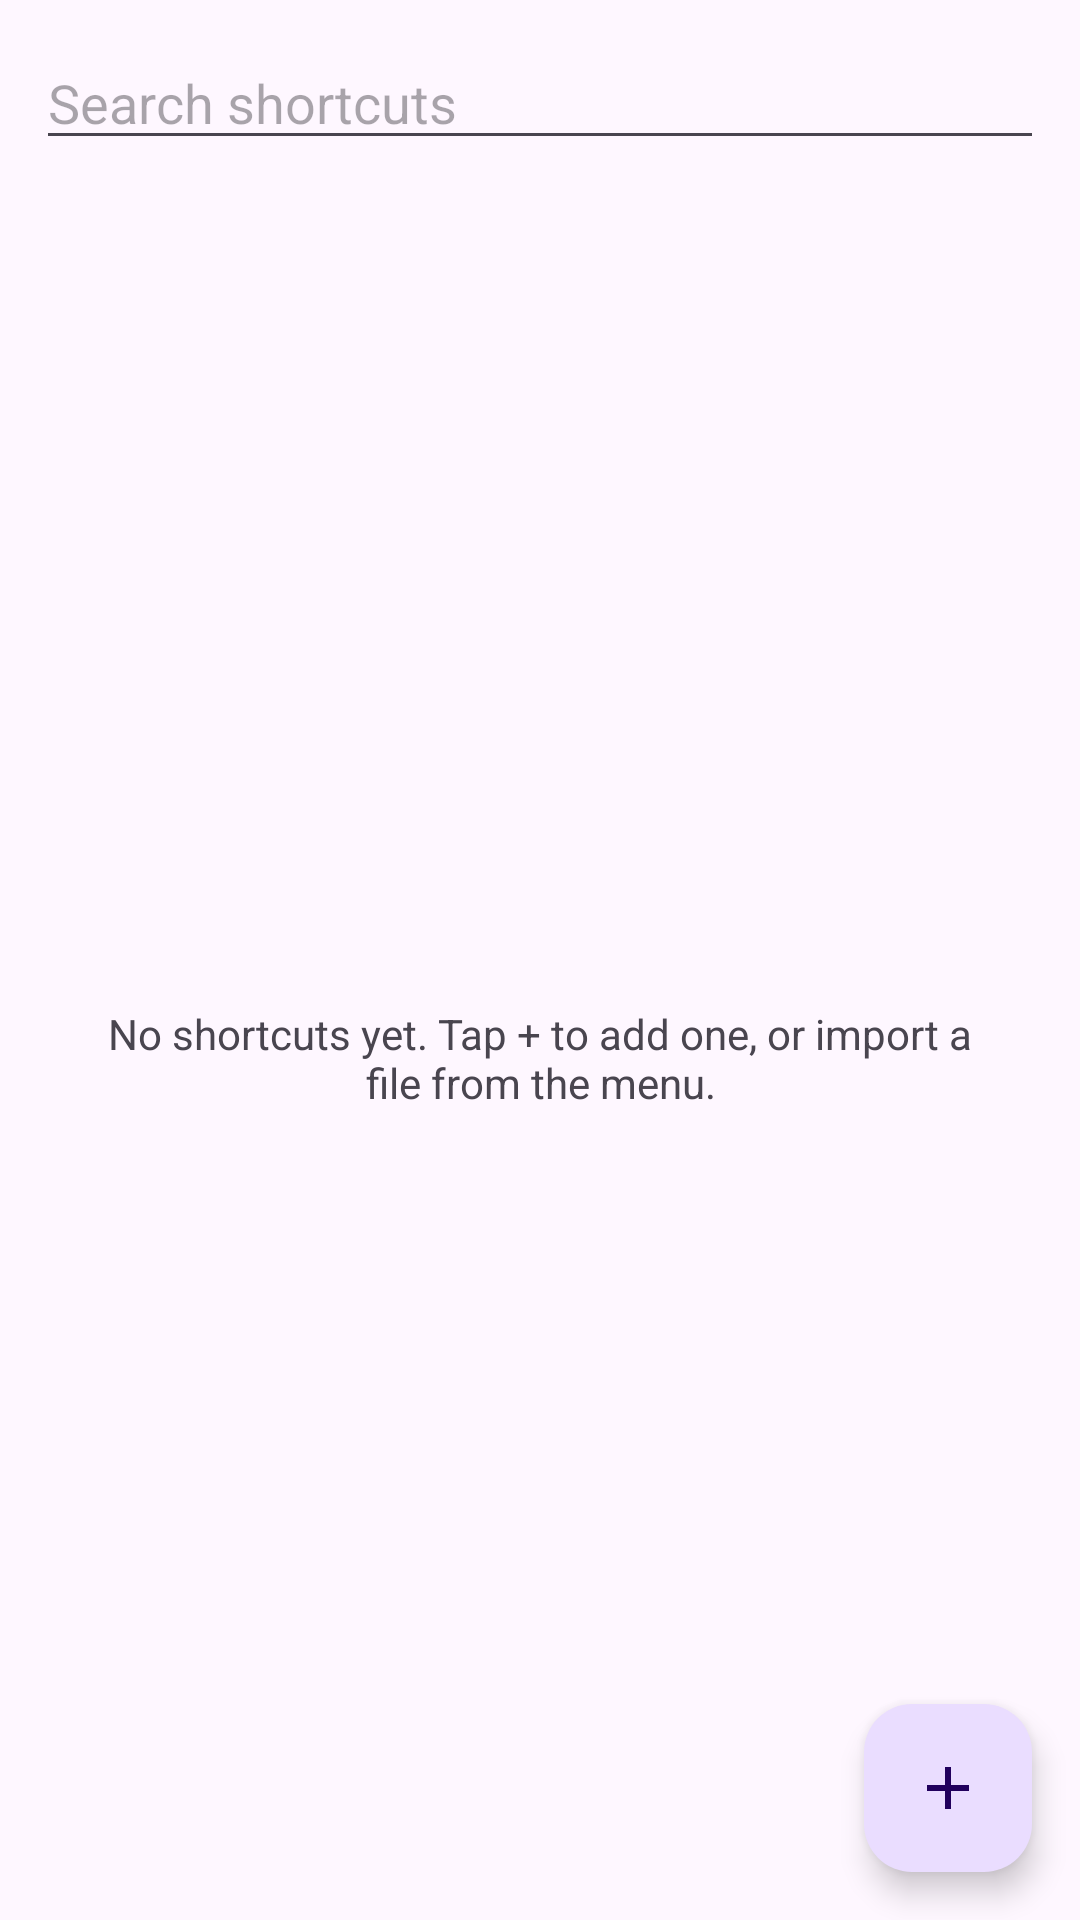

Icons on this 1080px x 1920px Android screen, each with its box as (x1, y1, x2, y2):
Add shortcut: (864, 1704, 1032, 1872)
